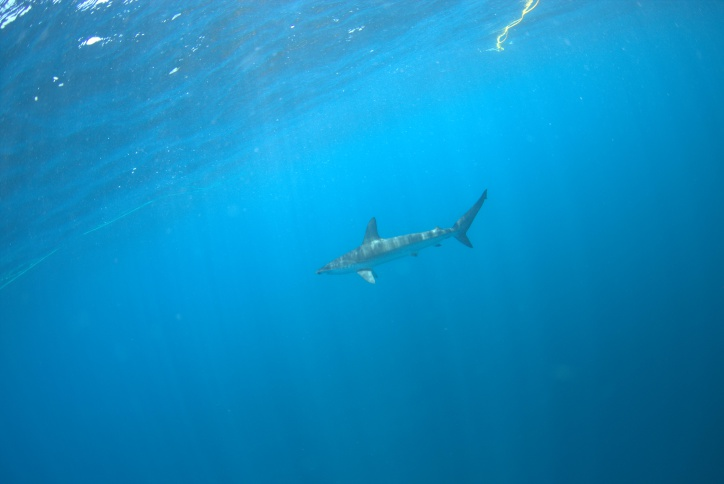Hammer: (293, 189, 516, 304)
